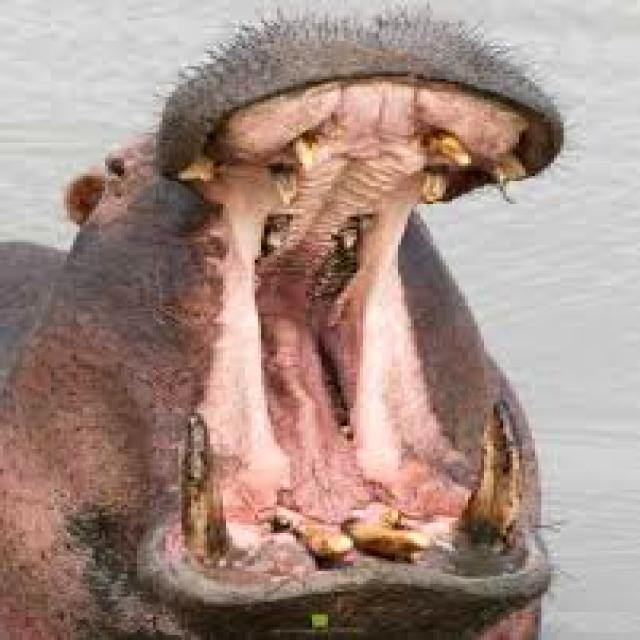hippopotamus: (0, 8, 560, 637)
